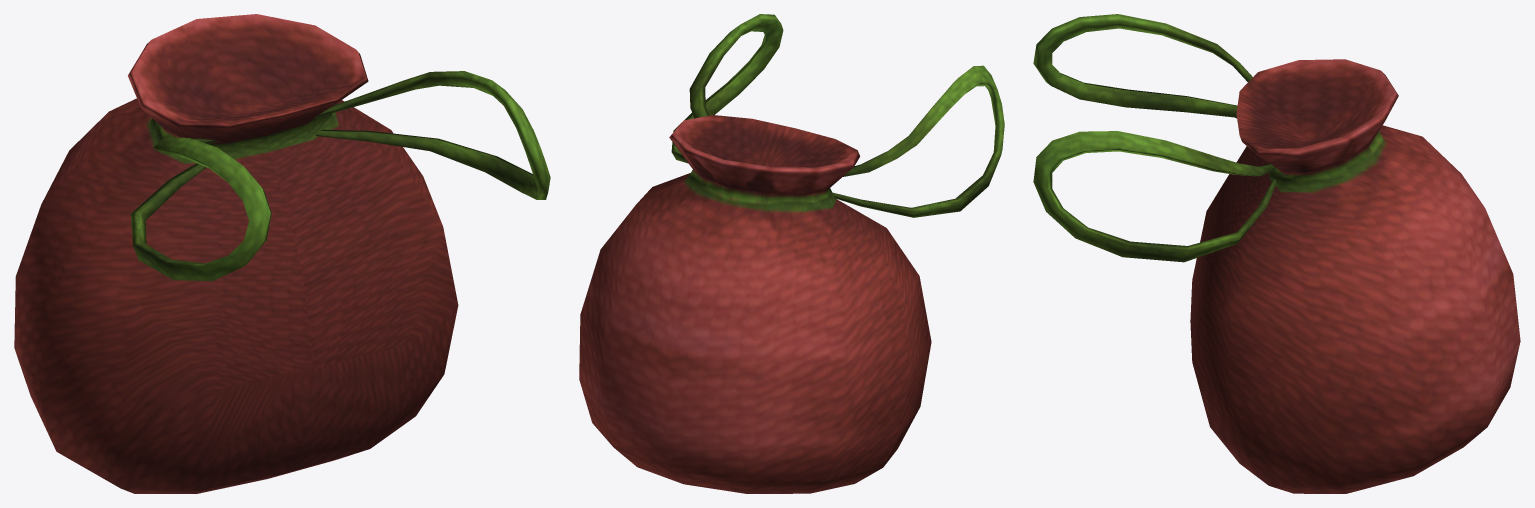
File: M_SantabagA.glb
The picture shows the model from 3 angles, left to right: view 1: azimuth 30°, elevation 25°; view 2: azimuth 150°, elevation 25°; view 3: azimuth 270°, elevation 25°; orthographic projection. The views are drawn at different scales.
Visible parts, largest first — view 1: SM_SantabagA; view 2: SM_SantabagA; view 3: SM_SantabagA.
Boxes of the visible parts, <box> form: SM_SantabagA: <box>14,14,550,493</box>; SM_SantabagA: <box>579,14,1004,493</box>; SM_SantabagA: <box>1033,14,1520,493</box>.
Size of the model in its own units: 0.4789 by 0.5126 by 0.5992.
Materials: 1 (1 with a texture image).
